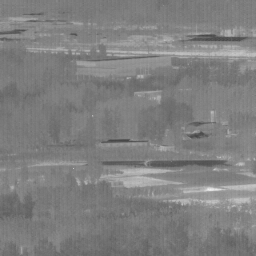aircraft: (92, 114, 94, 116)
